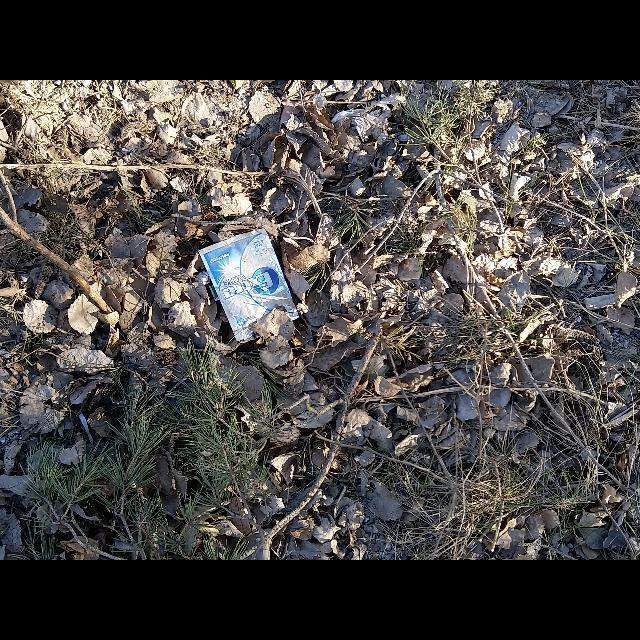Plastic: (198, 229, 300, 341)
